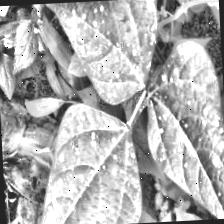Bean Rust: (141, 39, 224, 222), (19, 101, 139, 224), (44, 0, 161, 105)
